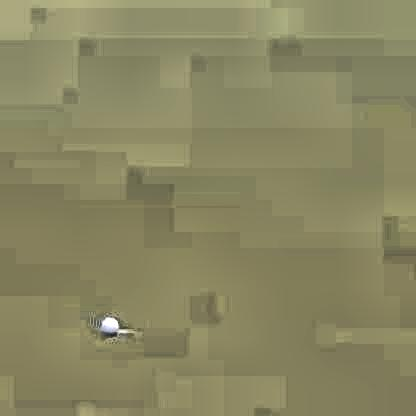golfball: (98, 314, 116, 334)
